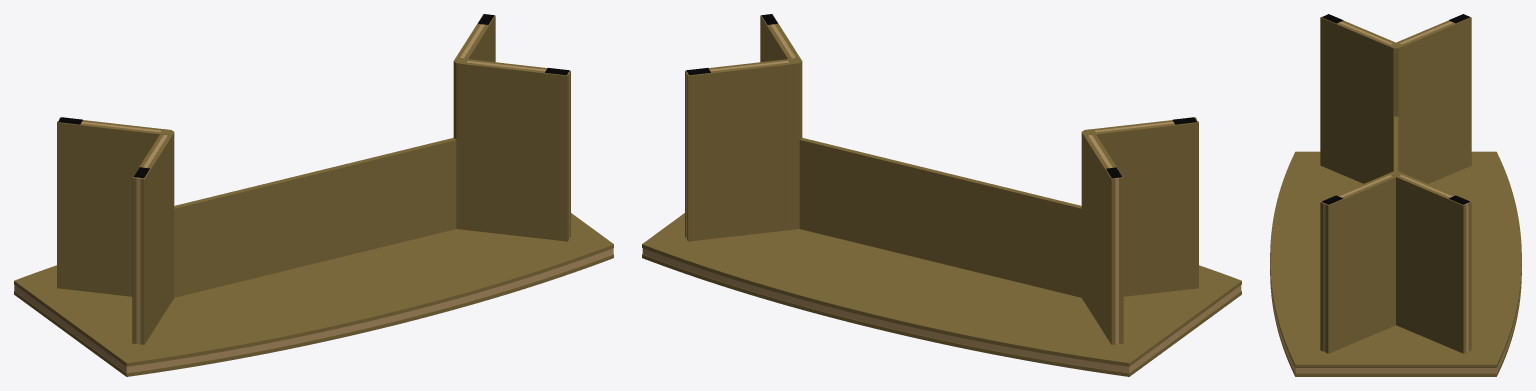
File: Mesa1.FBX
3 views of the same model, side by side, from view 1: azimuth 30°, elevation 25°; view 2: azimuth 150°, elevation 25°; view 3: azimuth 270°, elevation 25° (orthographic). The views are drawn at different scales.
Visible parts, largest first — view 1: Line04, Box43, Box49, Box46, Box42, Line07, Box47, Box50, Box44, Box41; view 2: Line04, Box43, Box50, Box42, Box46, Line07, Box47, Box49, Box45, Box41; view 3: Line04, Box50, Box49, Box46, Box42, Box41, Line07, Box51, Box48, Box43.
Boxes of the visible parts, x1,y1,x2,y2 form: Line04: (14,213,613,376); Box43: (174,138,456,297); Box49: (464,59,570,241); Box46: (57,117,162,296); Box42: (132,134,172,344); Line07: (14,248,613,372); Box47: (453,57,467,229); Box50: (456,14,495,62); Box44: (136,135,167,344); Box41: (160,129,174,300); Line04: (642,213,1241,376); Box43: (799,138,1081,297); Box50: (685,59,791,241); Box42: (1093,117,1198,296); Box46: (1083,134,1123,344); Line07: (642,248,1241,372); Box47: (788,57,802,229); Box49: (760,14,799,62); Box45: (1088,135,1119,344); Box41: (1081,129,1095,300); Line04: (1270,151,1521,376); Box50: (1396,174,1471,353); Box49: (1320,174,1395,353); Box46: (1396,17,1471,183); Box42: (1320,14,1395,183); Box41: (1388,42,1403,173); Line07: (1271,284,1520,373); Box51: (1399,175,1468,352); Box48: (1323,175,1392,352); Box43: (1393,116,1398,171).
Bounding box in the file's own units: 78.74 × 27.88 × 39.37.
